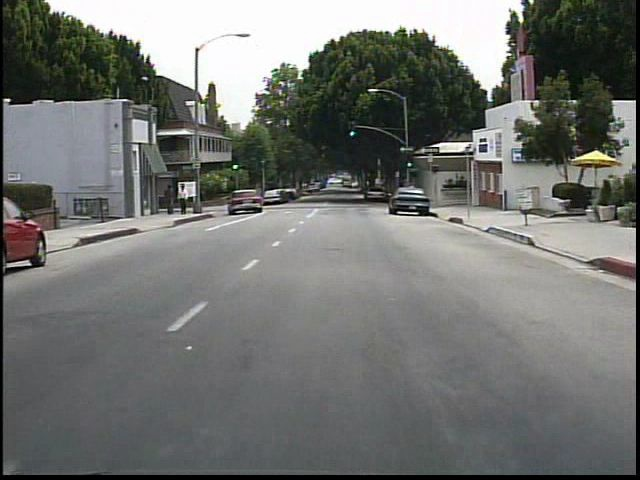person: (164, 184, 179, 217), (178, 185, 191, 216)
